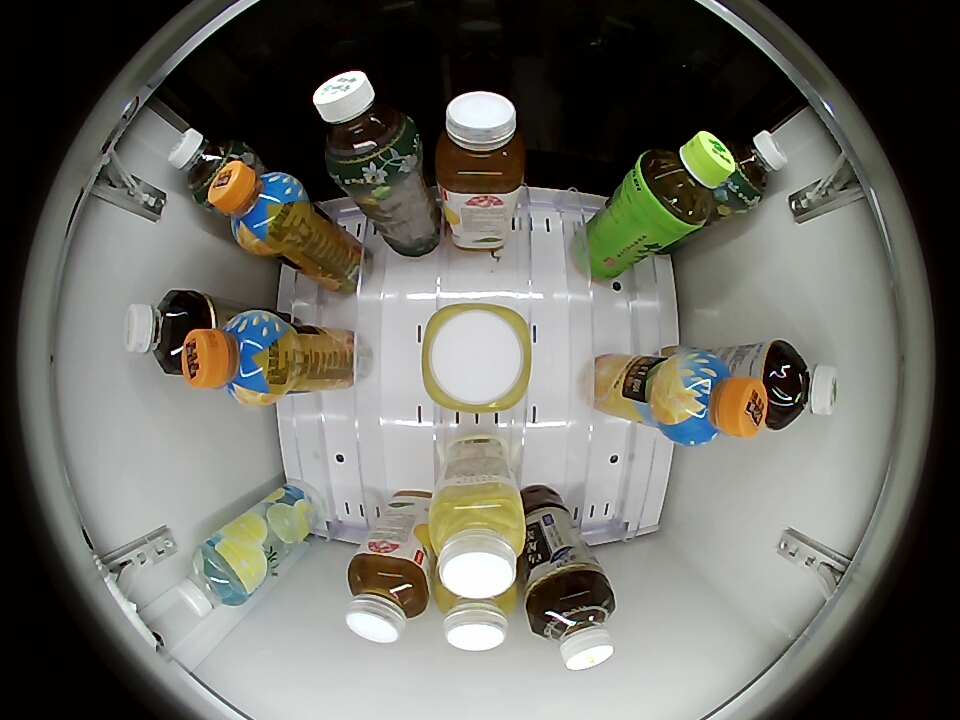chapai: (435, 91, 526, 199), (345, 548, 430, 643)
chapai2: (420, 300, 533, 413), (429, 485, 526, 600), (435, 575, 517, 651)
damaicha: (762, 340, 840, 429)
guolicheng: (656, 349, 766, 446), (184, 311, 290, 406), (208, 162, 305, 252)
moliqingcha: (314, 71, 421, 183), (168, 128, 249, 203), (719, 129, 788, 209)
qinningshui: (177, 541, 254, 616)
wulongcha: (528, 580, 616, 671), (124, 290, 200, 374)
yitengyuan: (632, 131, 736, 231)
